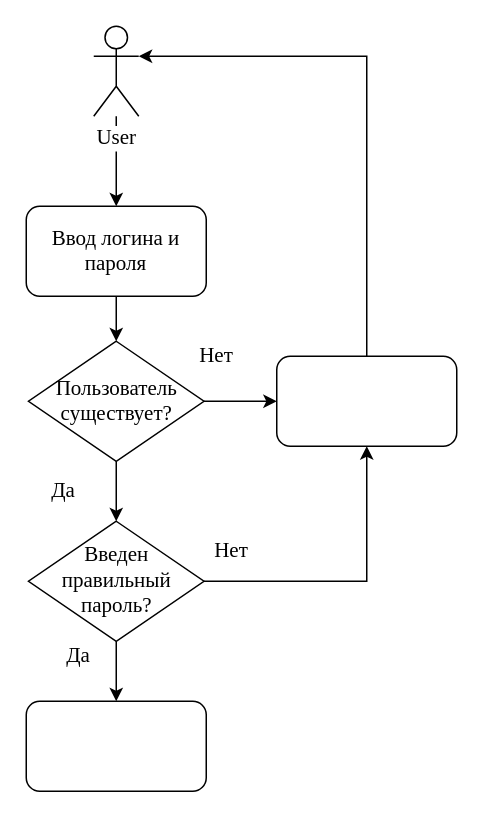
Some shapes in this 483 by 818 pixel diagram are drawn without their labels. Here are the shapes that lost their labels. From the top down, the centre of each, then its label:
the point at 366,400: Сообщение об ошибке
the point at 115,745: Вход в систему
